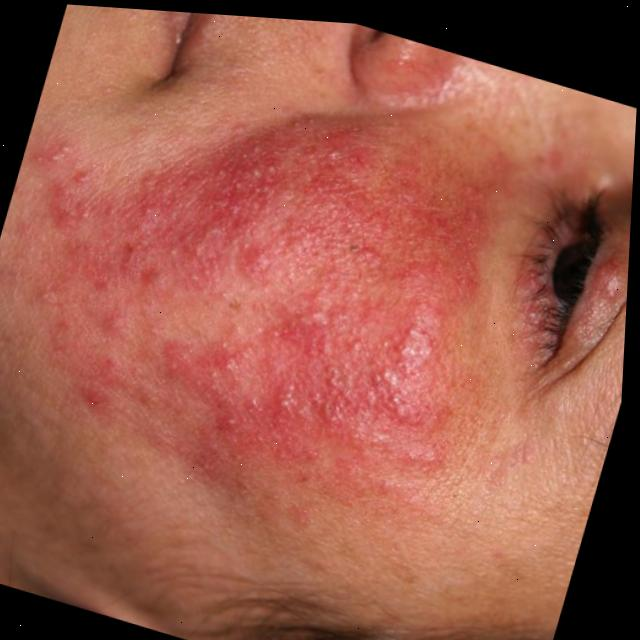Rosacea: (36, 115, 557, 567)
